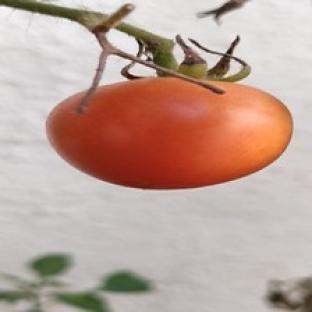Tomato: (46, 78, 292, 189)
